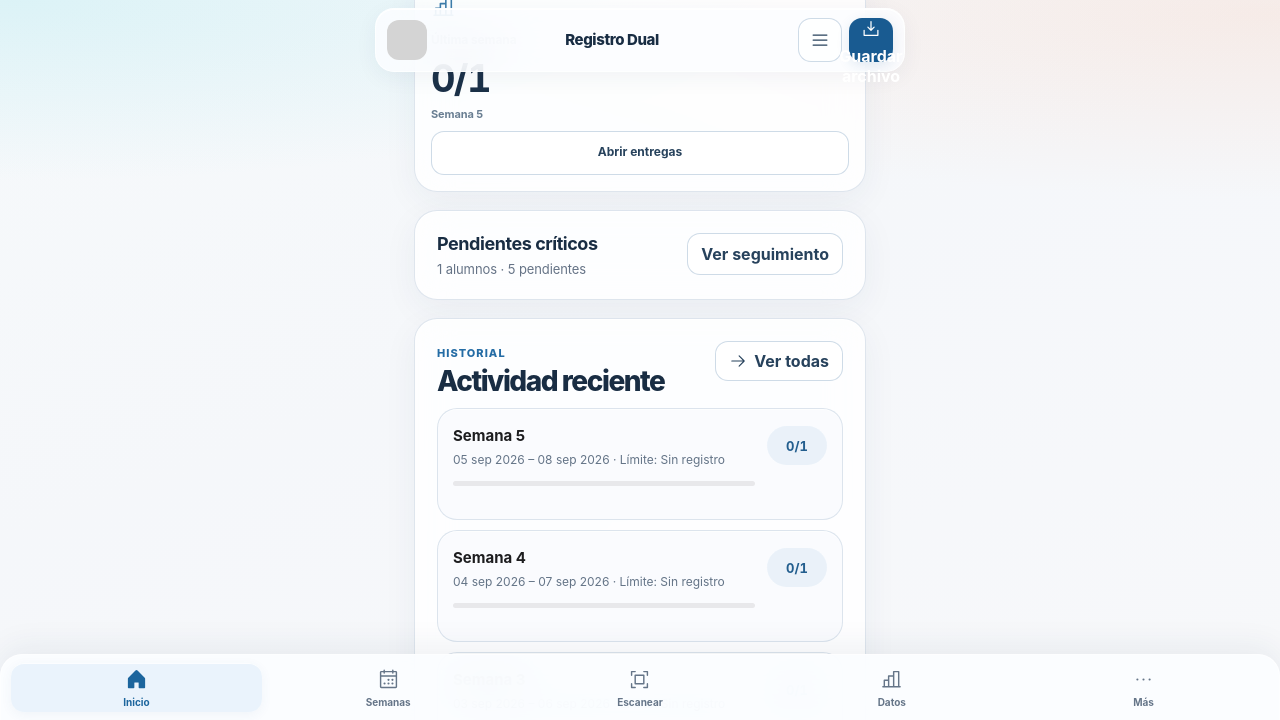
Test: Inicio, accesos rápidos y respaldos · Registro Dual › Inicio enseña tres métricas balanceadas y únicamente las últimas tres semanas
(page scrolled)
Expected: the element named "Indicadores de inicio" shows "Semana 5", [431,107,483,121]
Click the button "Ver todas".
click(779, 361)  # box [715,341,843,381]
(page scrolled)
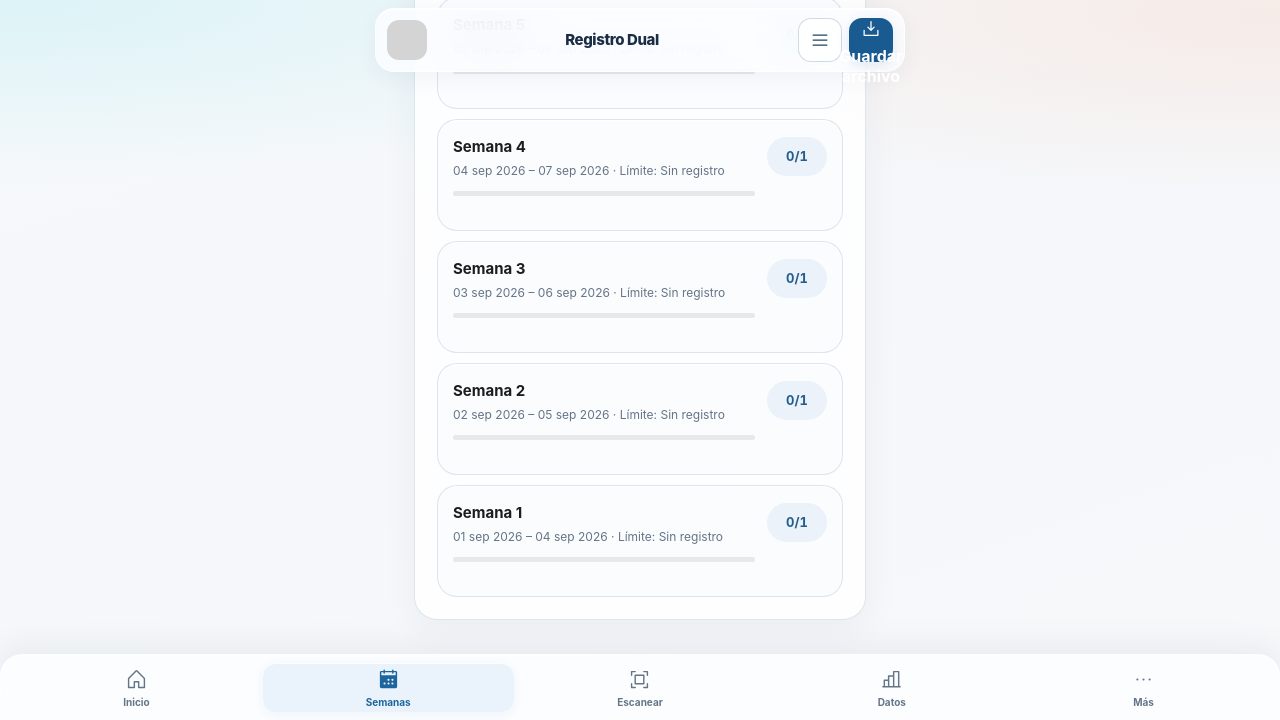
Result: the text "Semana 1" is shown at [453,502,522,522]
